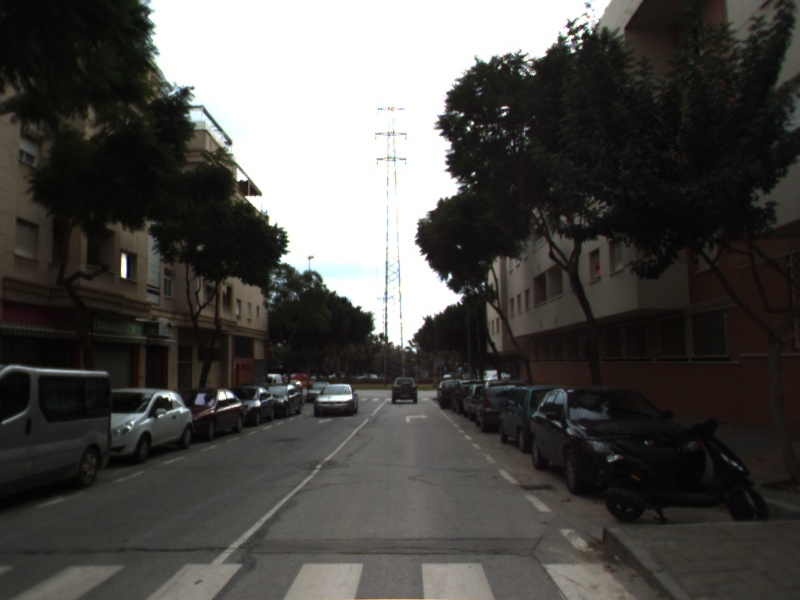RIGHT: (403, 412, 431, 424)
